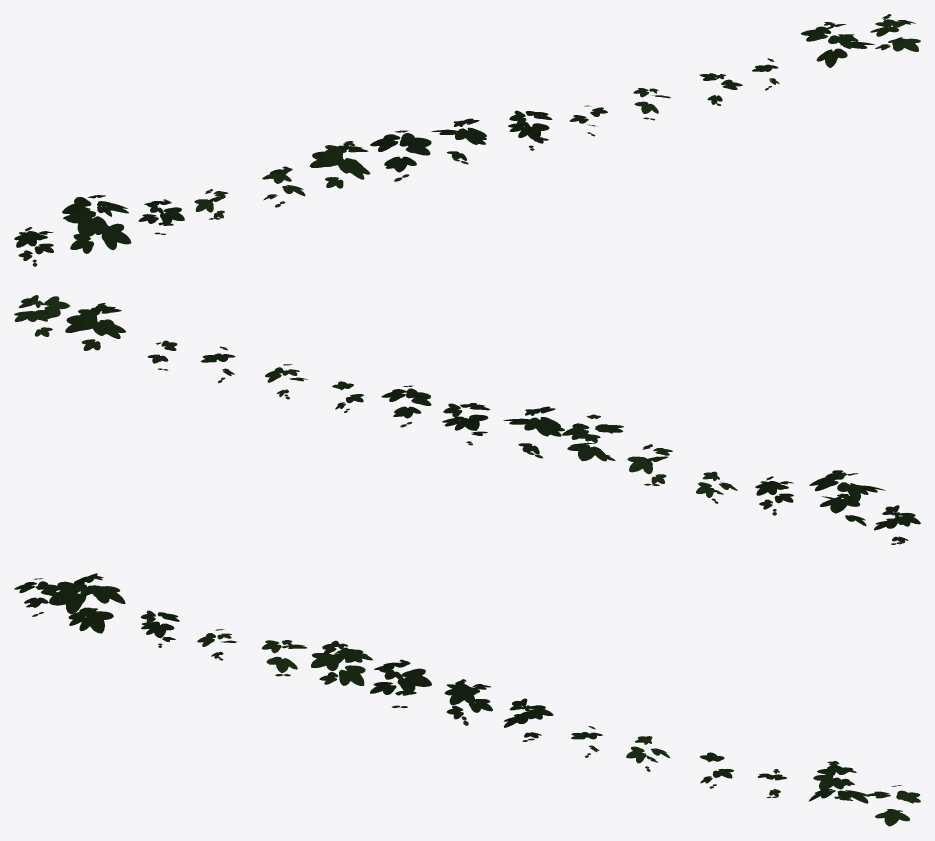
File: ROW_04_SEG2_foliage.dae
The picture shows the model from 3 angles, top to bottom: view 1: azimuth 30°, elevation 25°; view 2: azimuth 150°, elevation 25°; view 3: azimuth 330°, elevation 25°; orthographic projection.
Parts seen in each view (by area): view 1: ROW_04_SEG2_foliage; view 2: ROW_04_SEG2_foliage; view 3: ROW_04_SEG2_foliage.
Part boxes in pixels (x1,y1,x2,y2): ROW_04_SEG2_foliage: (14,14,920,266); ROW_04_SEG2_foliage: (14,295,920,544); ROW_04_SEG2_foliage: (14,573,920,826).
Bounding box in the file's own units: 4.44 × 0.3408 × 0.2815.
